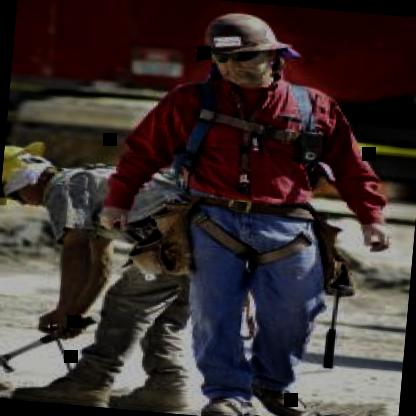helmet: (192, 7, 295, 91), (0, 134, 55, 215)
